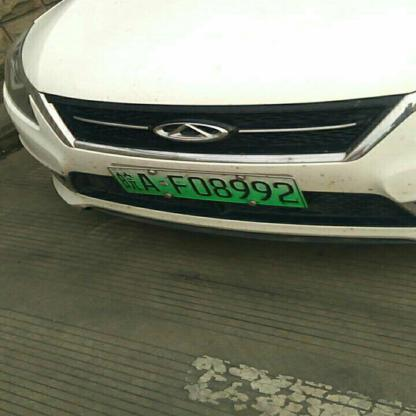lp: (108, 167, 305, 206)
